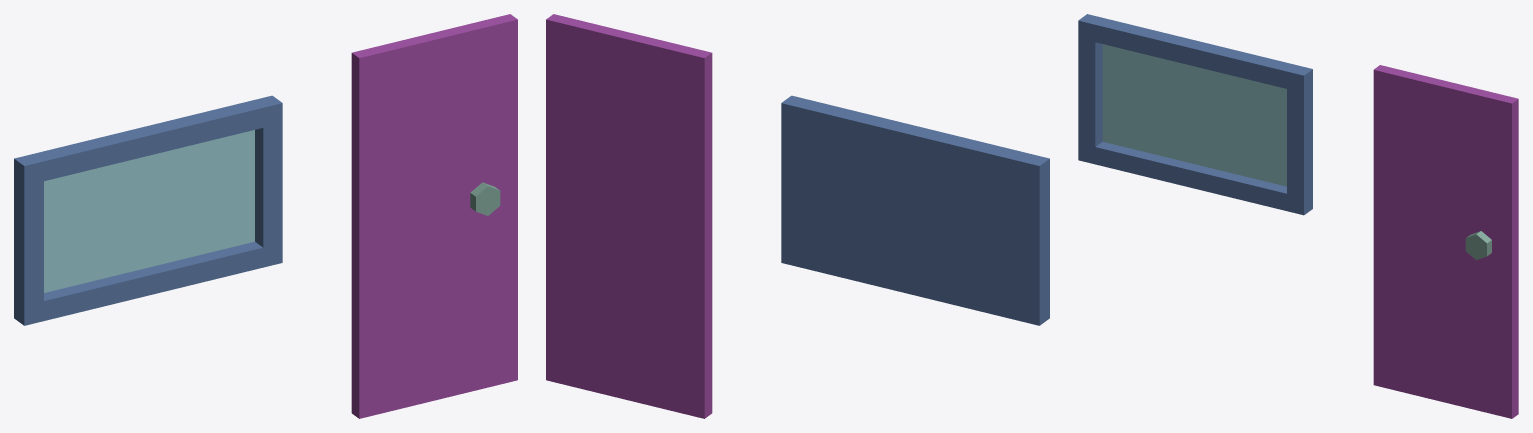
The model's file is facade_5.fbx.
3 views of the same model, side by side, from view 1: azimuth 30°, elevation 25°; view 2: azimuth 150°, elevation 25°; view 3: azimuth 330°, elevation 25° (orthographic). The views are drawn at different scales.
Visible parts, largest first — view 1: door, window_front, door_knob; view 2: door, window_front; view 3: door, window_front, door_knob.
Part boxes in pixels (x1,y1,x2,y2): door: (351, 14, 517, 418); window_front: (14, 95, 282, 325); door_knob: (470, 182, 500, 215); door: (546, 14, 712, 418); window_front: (781, 95, 1049, 325); door: (1373, 65, 1518, 418); window_front: (1078, 14, 1312, 215); door_knob: (1465, 231, 1491, 260).
Size of the model in its own units: 74.37 by 51.8 by 3.78.
